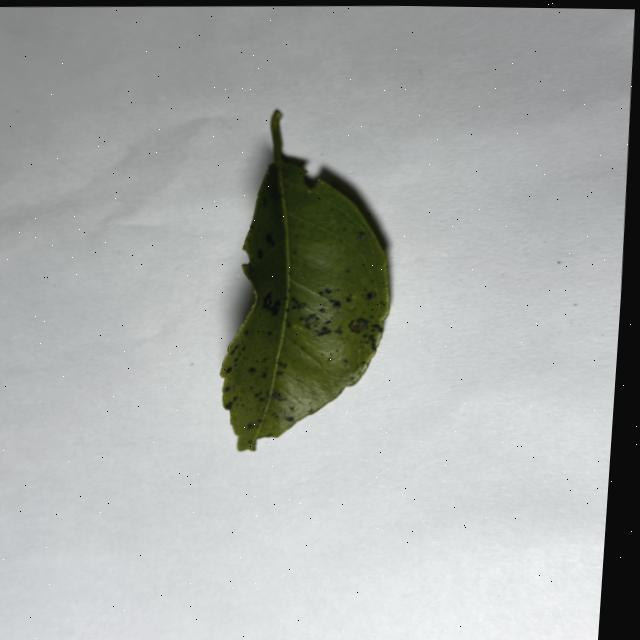sooty_mold: (220, 110, 388, 449)
